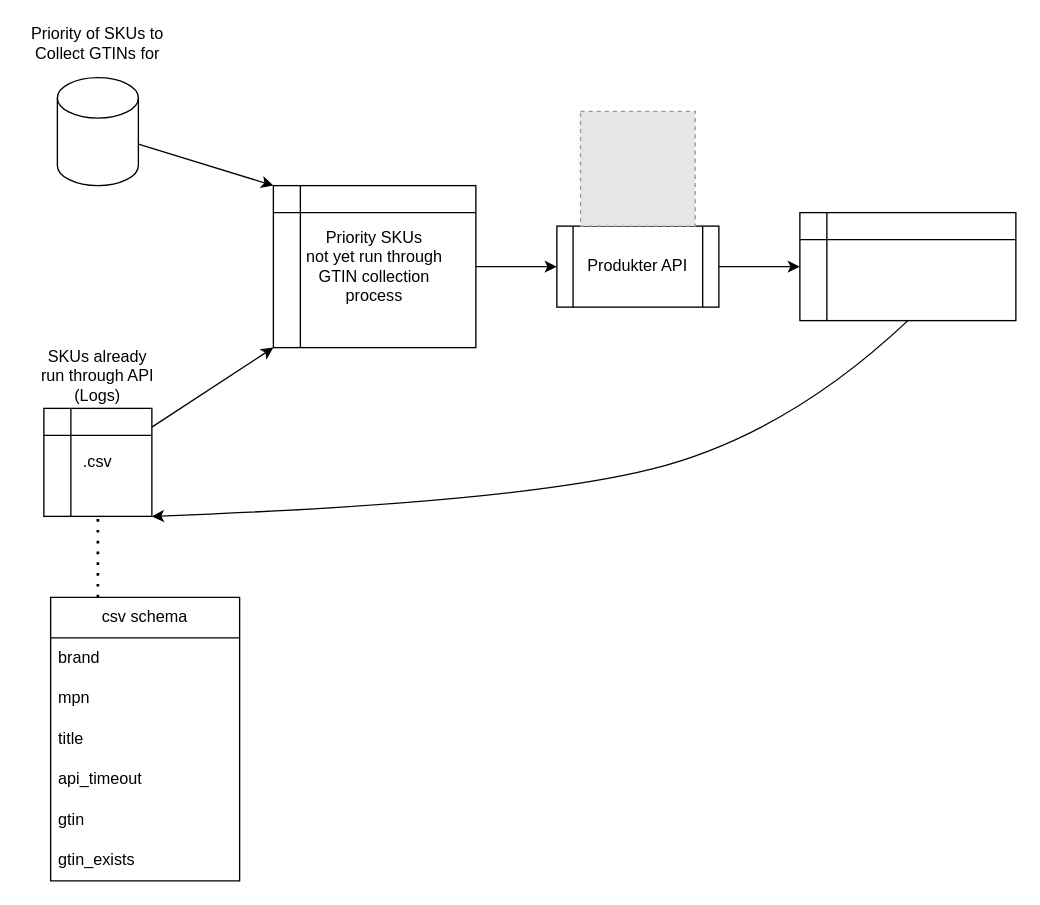
Some shapes in this 1040 by 905 pixel diagram are drawn without their labels. Grey dashed boxes stand in for pictures. The centre of each missing label's shape, as x and y in pixels:
CSV/SQL: pixel 97 131
GTIN results: pixel 907 266
